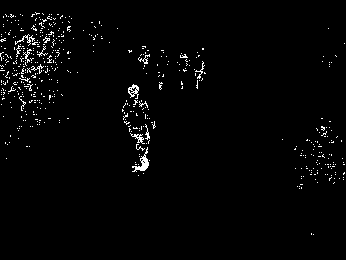person: (118, 79, 167, 174)
